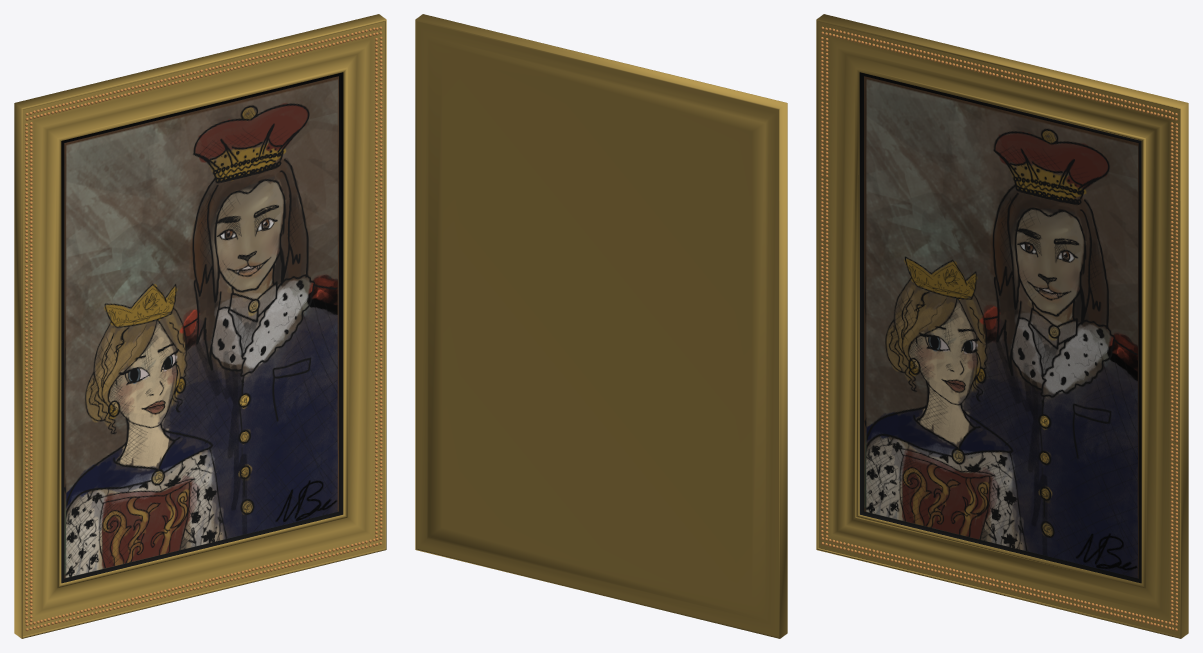
Rendered from painting frame 1.fbx.
3 renders of one model, left to right at view 1: azimuth 30°, elevation 25°; view 2: azimuth 150°, elevation 25°; view 3: azimuth 330°, elevation 25°, orthographic.
Visible parts, largest first — view 1: Sphere.002; view 2: Sphere.002; view 3: Sphere.002.
Part boxes in pixels (x1,y1,x2,y2): Sphere.002: (14,14,386,638); Sphere.002: (415,14,787,638); Sphere.002: (816,14,1188,638).
Size of the model in its own units: 412 by 573 by 16.52.
